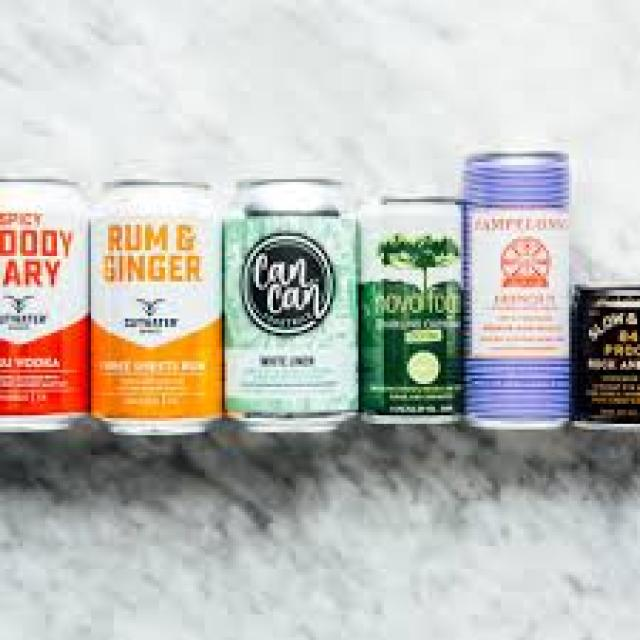Cans: (216, 171, 367, 438), (82, 174, 228, 444), (447, 145, 580, 438)
